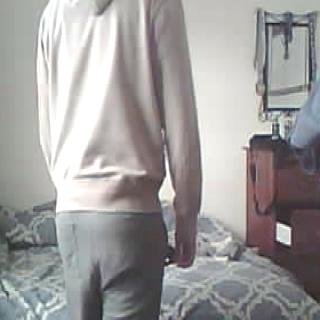Gray Sweatpants: (55, 212, 170, 320)
Yellow Hoodie: (31, 0, 200, 213)
